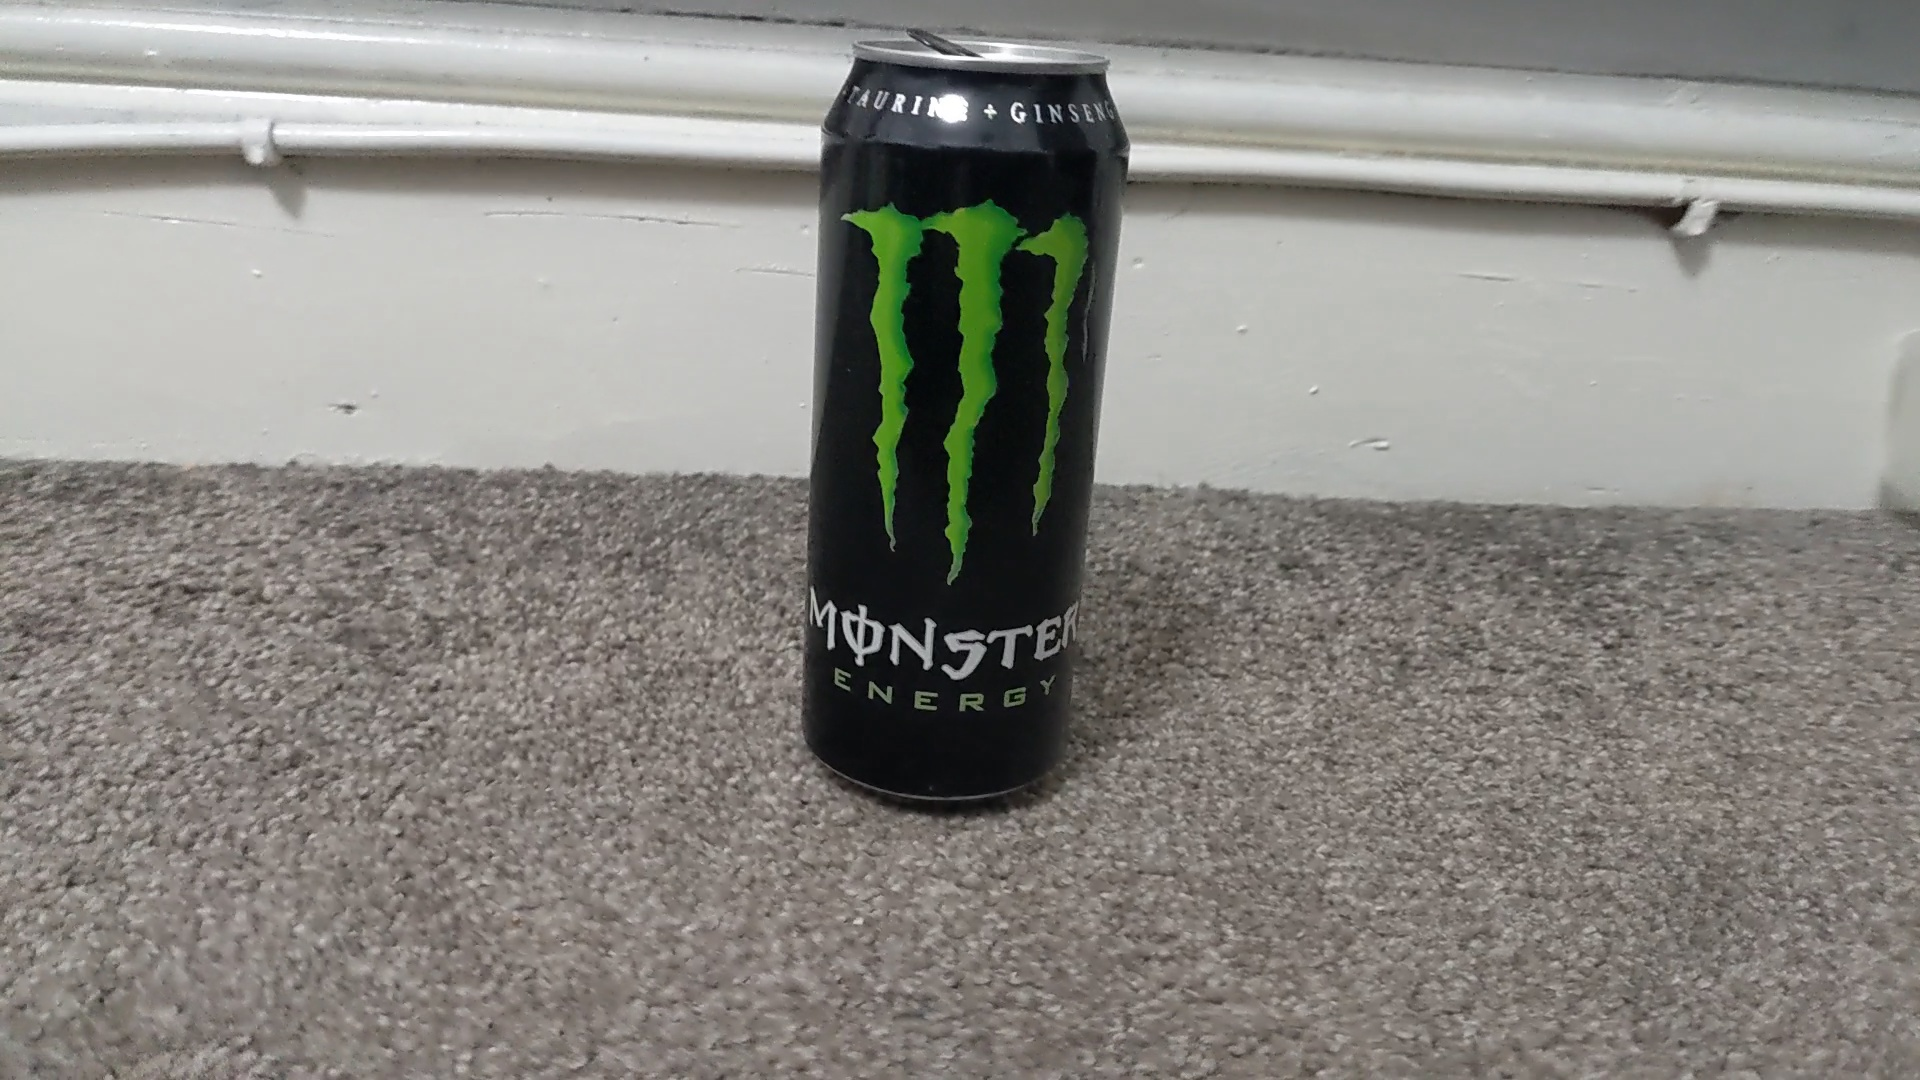monster-original: (800, 40, 1131, 804)
